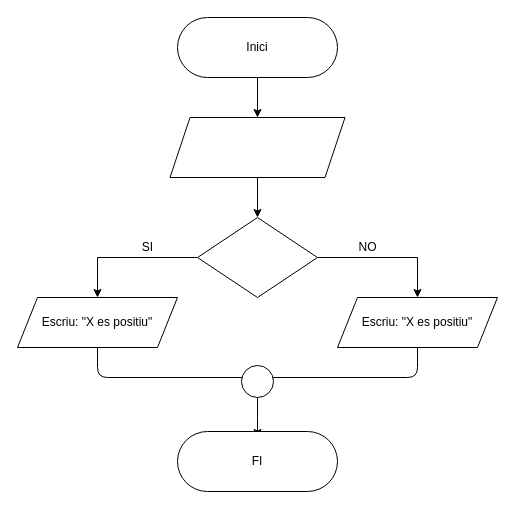
Some shapes in this 515 by 509 pixel diagram are drawn without their labels. The shapes that lost their labels are listed below. From the top down, each one's centre as x and y in pixels, then its label:
point 257,147: Llig X
point 257,257: X >= 0
